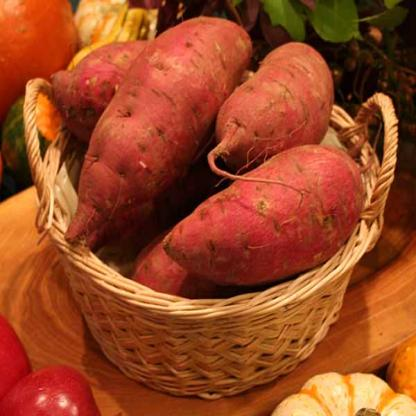---: (59, 10, 255, 252), (164, 133, 360, 290), (199, 27, 342, 185)
